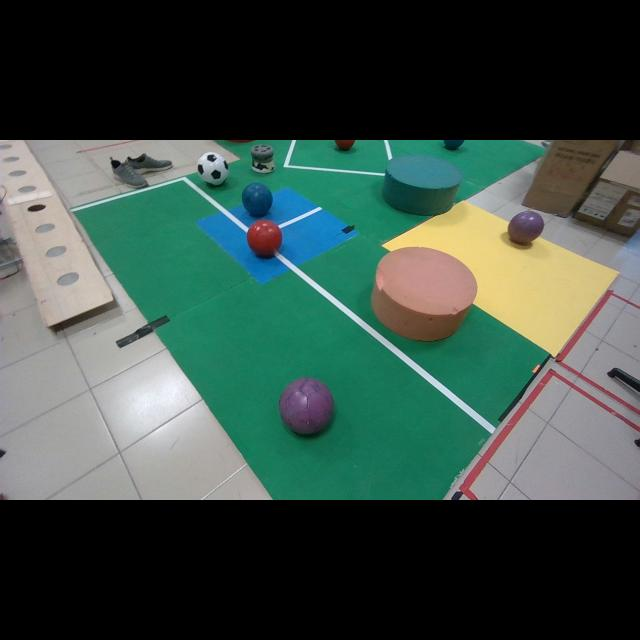B: (241, 182, 272, 218)
P: (279, 378, 334, 434), (508, 211, 544, 245)
R: (248, 220, 282, 258), (335, 140, 354, 151)
